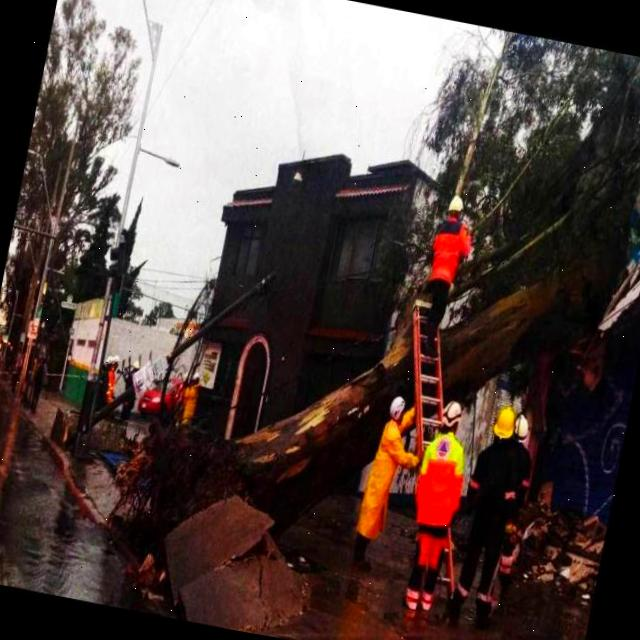Broken Pole: (72, 270, 274, 441)
